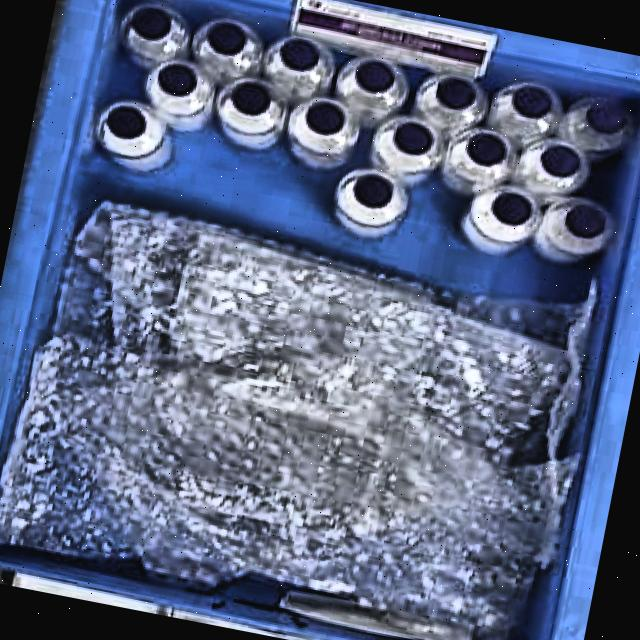vial: (511, 83, 556, 121), (206, 21, 252, 56), (490, 191, 533, 228), (587, 98, 630, 135), (565, 203, 609, 239), (434, 77, 479, 112), (279, 37, 321, 73), (229, 82, 272, 117), (538, 145, 582, 179), (106, 104, 148, 139), (130, 5, 172, 40), (158, 62, 197, 98), (353, 174, 394, 208), (304, 101, 346, 134), (355, 60, 397, 93), (465, 133, 506, 165), (394, 122, 433, 155)
